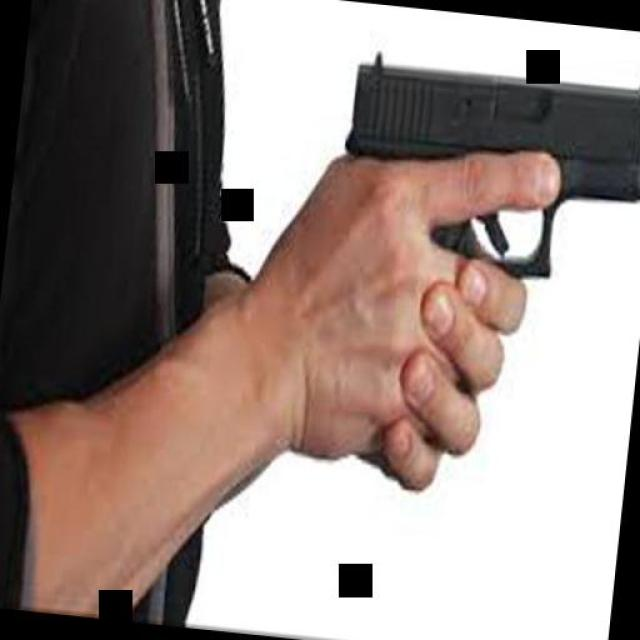gun: (314, 41, 640, 495)
